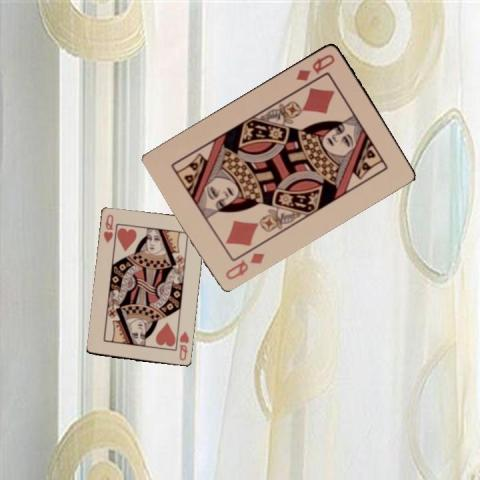Qd: (222, 248, 266, 280), (292, 51, 336, 82)
Qh: (176, 329, 190, 362), (101, 212, 115, 245)
